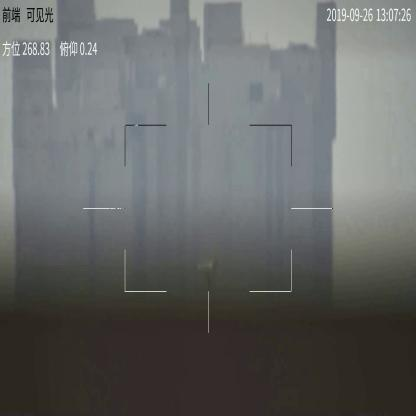uav: (196, 258, 222, 287)
